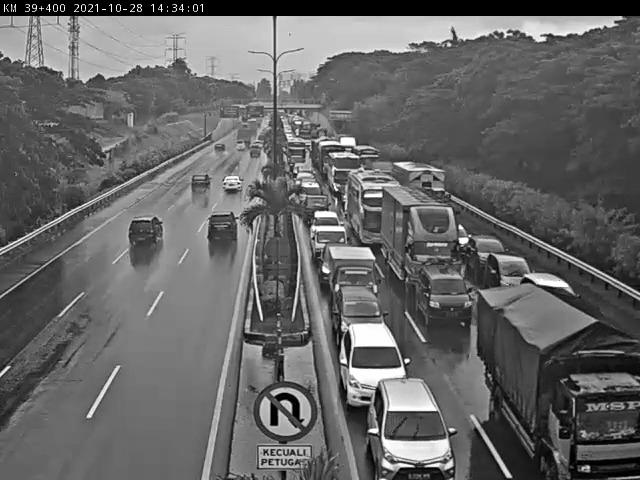big bus: (348, 171, 401, 247), (322, 151, 362, 193)
big truck: (468, 272, 621, 449), (380, 185, 459, 295), (392, 159, 456, 213)
car: (360, 367, 451, 477), (334, 322, 409, 404), (567, 304, 631, 379), (416, 262, 472, 328), (322, 246, 384, 304), (327, 286, 389, 343), (309, 222, 350, 264), (466, 235, 508, 270), (126, 214, 165, 249), (487, 253, 530, 281), (203, 211, 238, 245), (298, 194, 330, 224), (447, 220, 470, 251), (296, 178, 320, 199), (312, 208, 340, 226), (220, 177, 246, 196), (189, 173, 212, 194), (248, 145, 264, 164), (209, 139, 226, 155), (294, 167, 312, 182), (233, 140, 248, 156)
